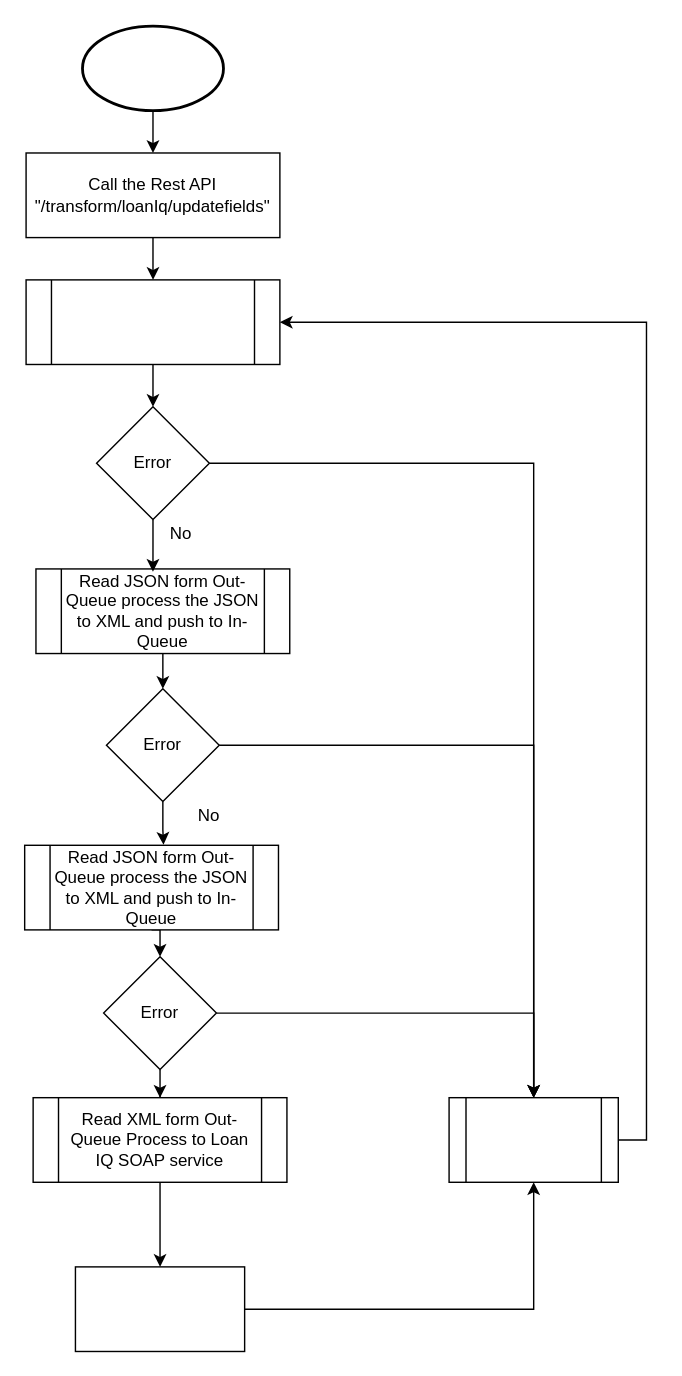
Image size: 682x1376. Some labels were removed from this diagram. The shapes that lost their labels are listed below. From the top down, each one's centre as x and y in pixels, then its label:
pixel 152 67: Bank/Fin Tech
pixel 152 321: Process the JSON request and push JSON to In-Queue
pixel 533 1139: Error Processing
pixel 159 1308: Loan IQ system
